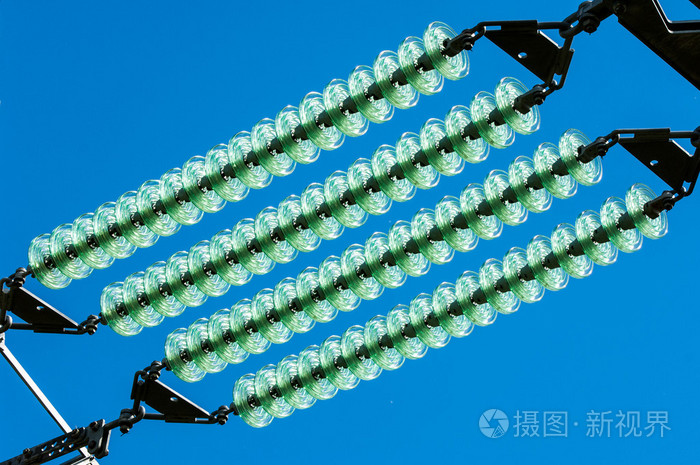insulator: (26, 22, 471, 285), (100, 78, 545, 336), (169, 132, 609, 379), (236, 190, 667, 427)
